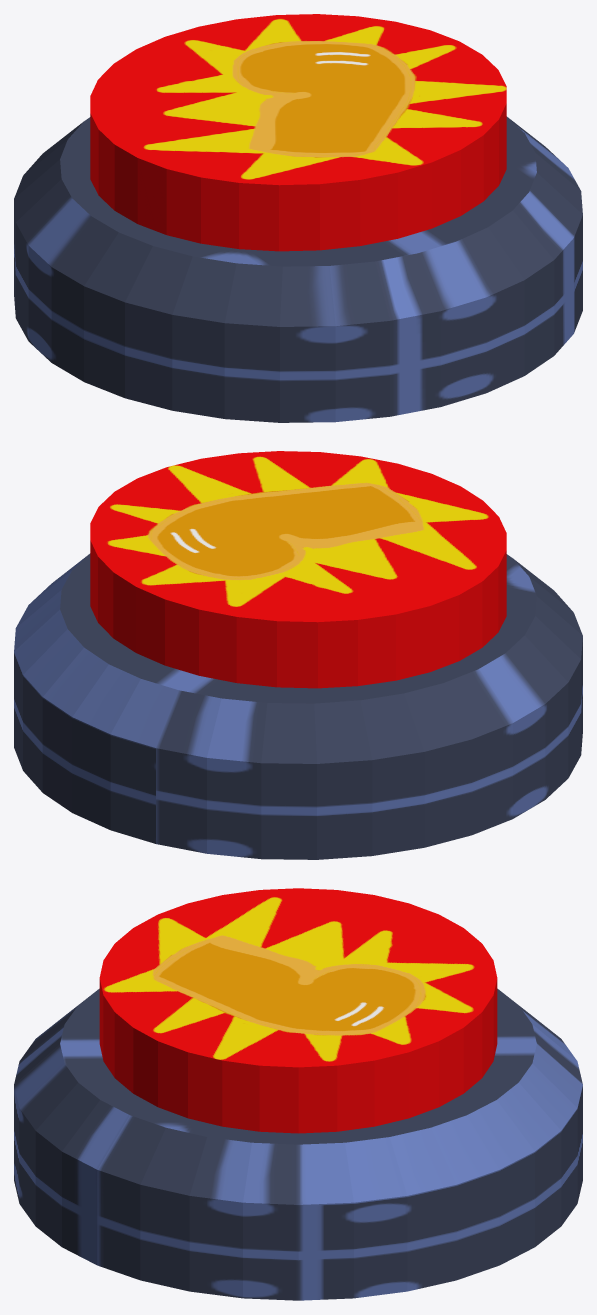
The model's file is red button.fbx.
3 renders of one model, top to bottom at view 1: azimuth 30°, elevation 25°; view 2: azimuth 150°, elevation 25°; view 3: azimuth 270°, elevation 25°, orthographic.
Visible parts, largest first — view 1: Cylinder.002; view 2: Cylinder.002; view 3: Cylinder.002.
Boxes of the visible parts, left/top/right/bottom form: Cylinder.002: left=14, top=14, right=582, bottom=422; Cylinder.002: left=14, top=451, right=582, bottom=859; Cylinder.002: left=14, top=888, right=582, bottom=1300.
Size of the model in its own units: 64.75 by 25.45 by 64.75.
